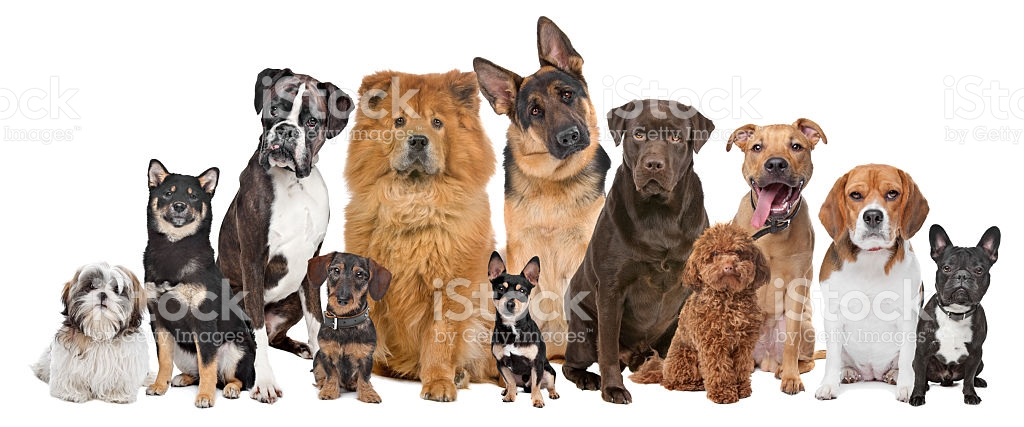dog: (350, 69, 513, 403), (472, 16, 614, 363), (563, 101, 726, 398), (217, 66, 356, 389), (732, 116, 830, 393), (139, 161, 240, 410), (650, 219, 763, 401), (822, 164, 910, 397), (29, 260, 140, 408), (914, 226, 995, 408), (485, 247, 560, 408), (308, 255, 385, 405)
